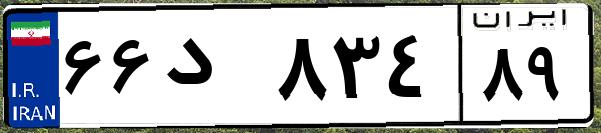3: (330, 28, 385, 110)
4: (385, 28, 445, 110)
6: (57, 26, 110, 100), (110, 28, 158, 98)
8: (270, 28, 330, 110), (475, 38, 525, 113)
9: (525, 38, 570, 115)
د: (158, 20, 270, 120)
